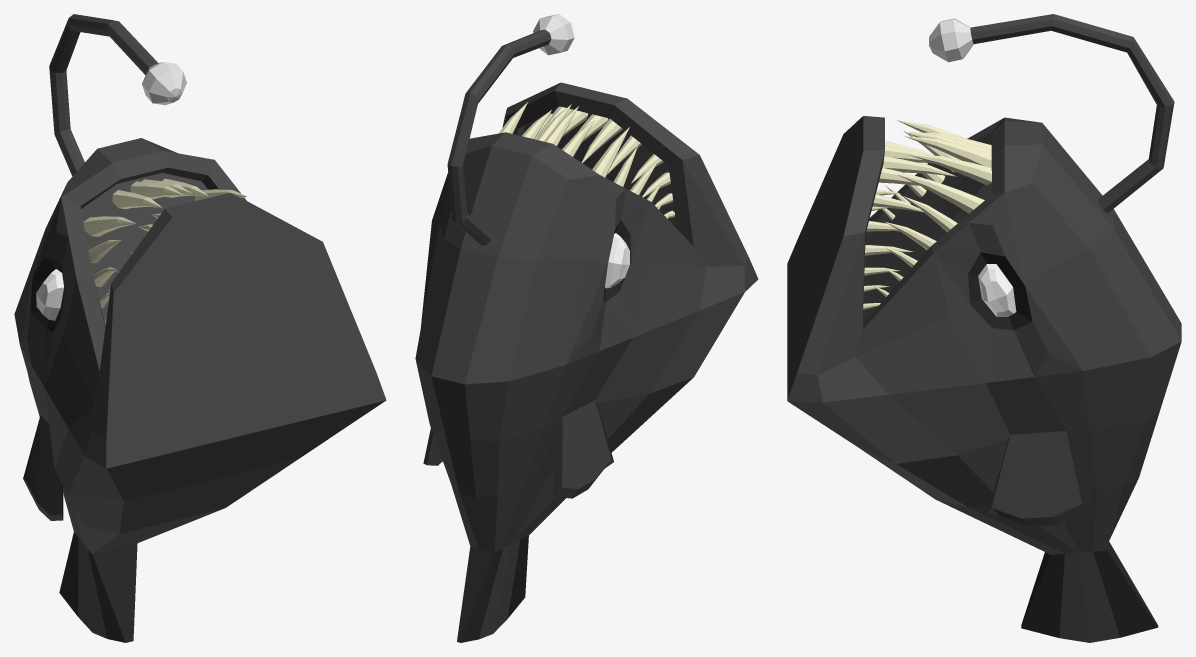
The model's file is AnglerStatic 1.fbx.
3 renders of one model, left to right at view 1: azimuth 30°, elevation 25°; view 2: azimuth 150°, elevation 25°; view 3: azimuth 270°, elevation 25°, orthographic. The views are drawn at different scales.
Parts seen in each view (by area): view 1: AnglerJoin; view 2: AnglerJoin; view 3: AnglerJoin.
Part boxes in pixels (x1,y1,x2,y2): AnglerJoin: (14, 14, 386, 642); AnglerJoin: (415, 14, 758, 642); AnglerJoin: (787, 14, 1181, 642).
Bounding box in the file's own units: 143 × 169 × 297.
